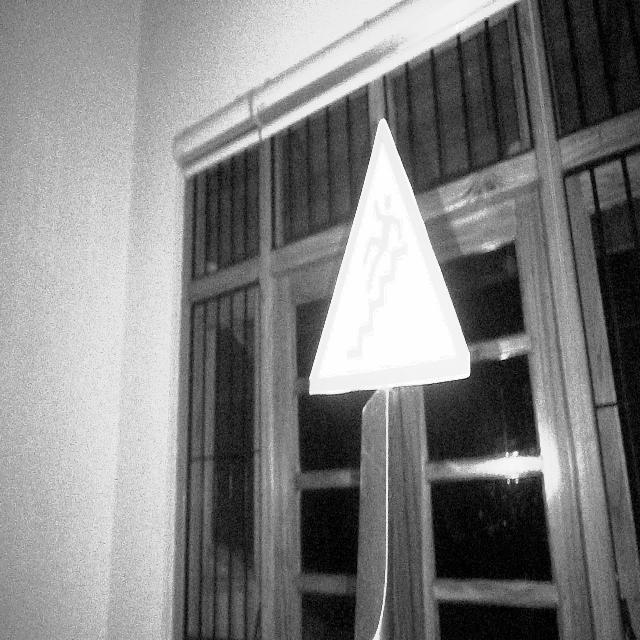Sign: (307, 118, 471, 398)
